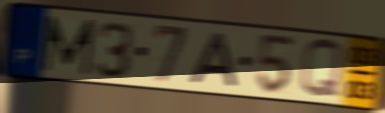3: (94, 20, 136, 81)
5: (254, 31, 298, 97)
7: (152, 22, 190, 85)
A: (187, 30, 240, 90)
M: (41, 13, 97, 77)
Q: (298, 37, 346, 101)
